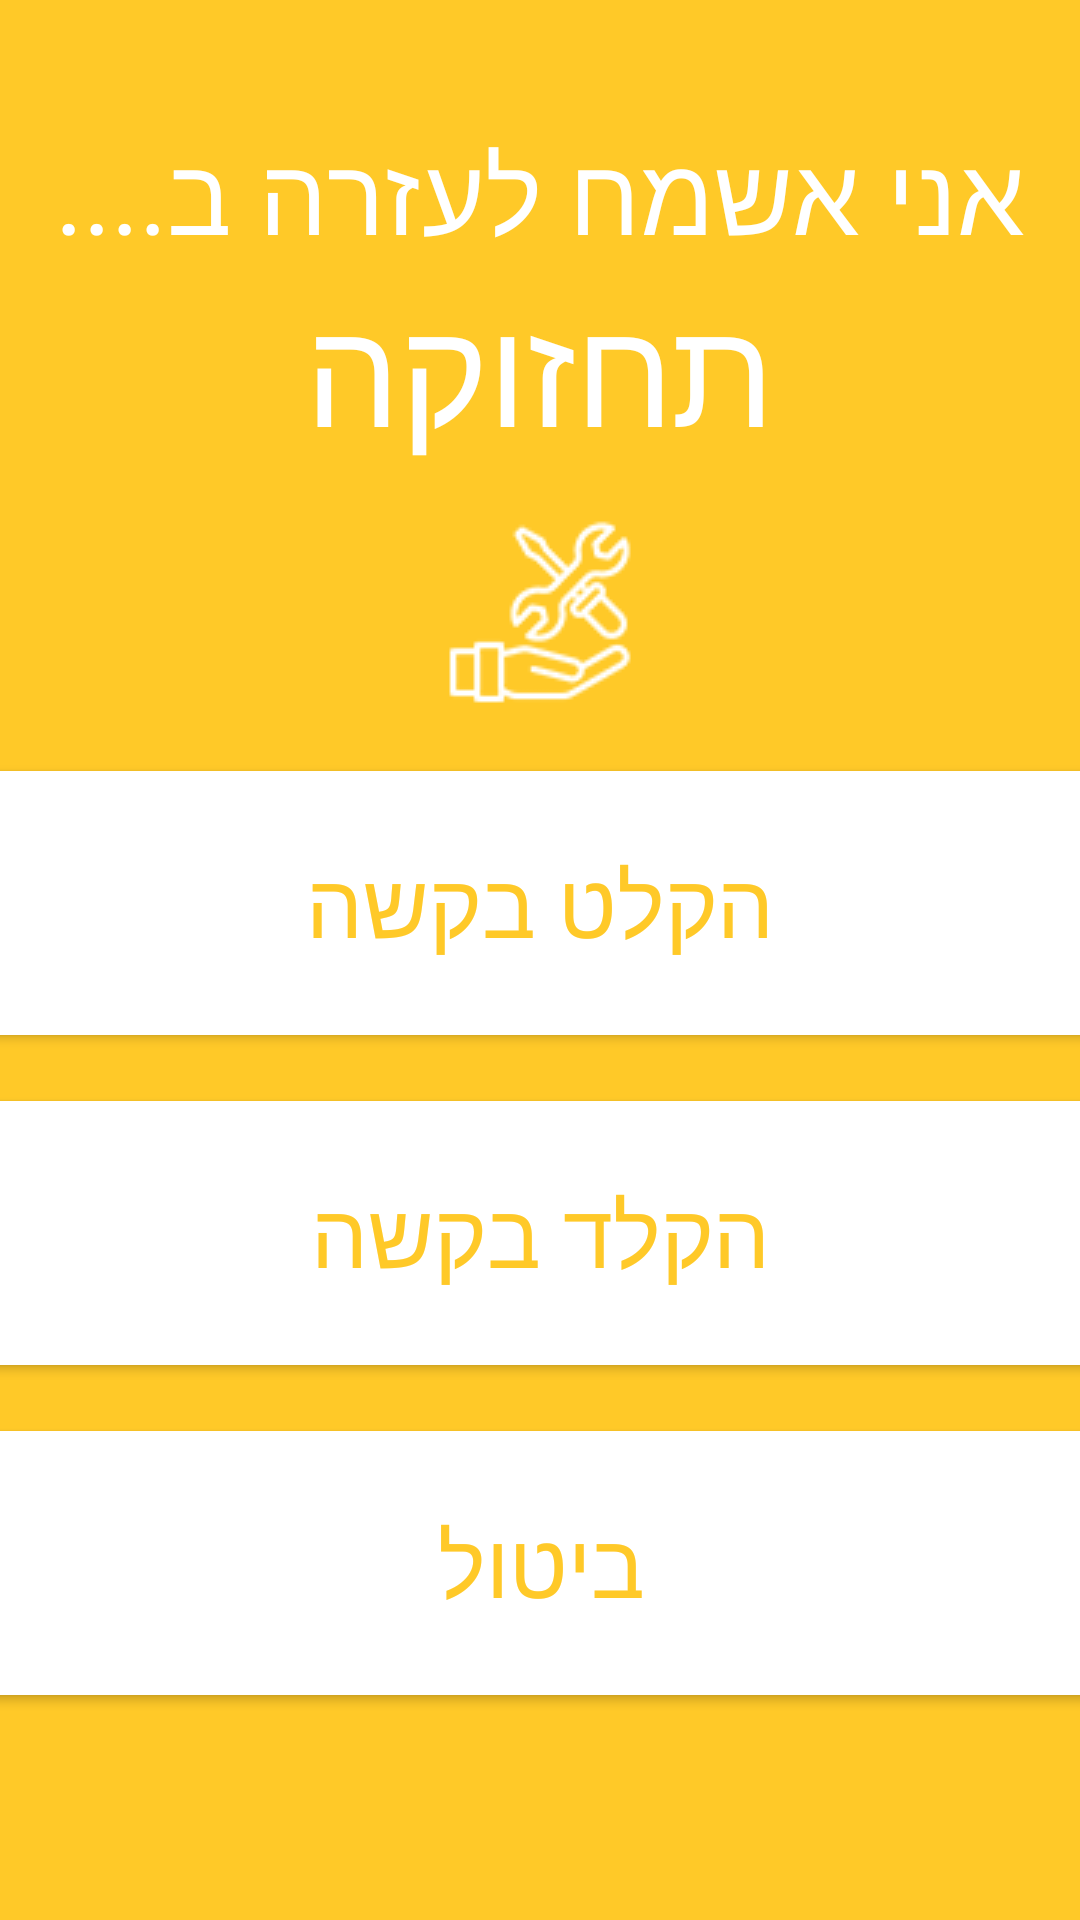

Icons on this 1080px x 1920px Android screen, each with the point to tap as (x=x, y=y):
maintenancewhite: (x=540, y=612)
